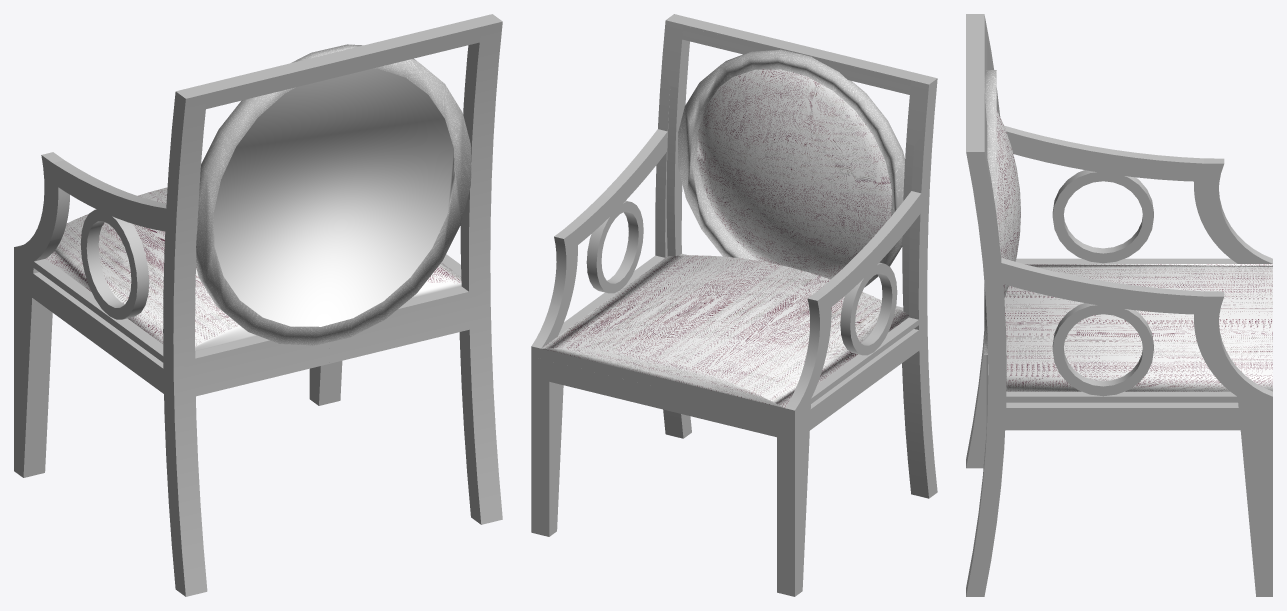
The picture shows the model from 3 angles, left to right: view 1: azimuth 30°, elevation 25°; view 2: azimuth 150°, elevation 25°; view 3: azimuth 270°, elevation 25°; orthographic projection. The views are drawn at different scales.
Parts seen in each view (by area): view 1: mesh23_mesh23-geometry, mesh11_mesh11-geometry, mesh1_mesh1-geometry, mesh22_mesh22-geometry, mesh24_mesh24-geometry; view 2: mesh23_mesh23-geometry, mesh24_mesh24-geometry, mesh11_mesh11-geometry, mesh1_mesh1-geometry, mesh12_mesh12-geometry, mesh22_mesh22-geometry; view 3: mesh1_mesh1-geometry, mesh24_mesh24-geometry, mesh11_mesh11-geometry, mesh23_mesh23-geometry, mesh22_mesh22-geometry.
Boxes of the visible parts, x1=… form: mesh23_mesh23-geometry: x1=213, y1=68, x2=454, y2=326; mesh11_mesh11-geometry: x1=14, y1=86, x2=329, y2=596; mesh1_mesh1-geometry: x1=34, y1=14, x2=502, y2=524; mesh22_mesh22-geometry: x1=196, y1=44, x2=471, y2=345; mesh24_mesh24-geometry: x1=46, y1=187, x2=461, y2=350; mesh23_mesh23-geometry: x1=697, y1=69, x2=891, y2=279; mesh24_mesh24-geometry: x1=541, y1=255, x2=908, y2=407; mesh11_mesh11-geometry: x1=660, y1=26, x2=937, y2=596; mesh1_mesh1-geometry: x1=531, y1=14, x2=918, y2=536; mesh12_mesh12-geometry: x1=531, y1=356, x2=794, y2=596; mesh22_mesh22-geometry: x1=678, y1=49, x2=904, y2=287; mesh1_mesh1-geometry: x1=966, y1=23, x2=1272, y2=596; mesh24_mesh24-geometry: x1=1004, y1=264, x2=1272, y2=391; mesh11_mesh11-geometry: x1=966, y1=14, x2=1272, y2=468; mesh23_mesh23-geometry: x1=996, y1=110, x2=1020, y2=297; mesh22_mesh22-geometry: x1=984, y1=70, x2=996, y2=354.
Bounding box in the file's own units: 0.4917 × 0.7384 × 0.4615.
